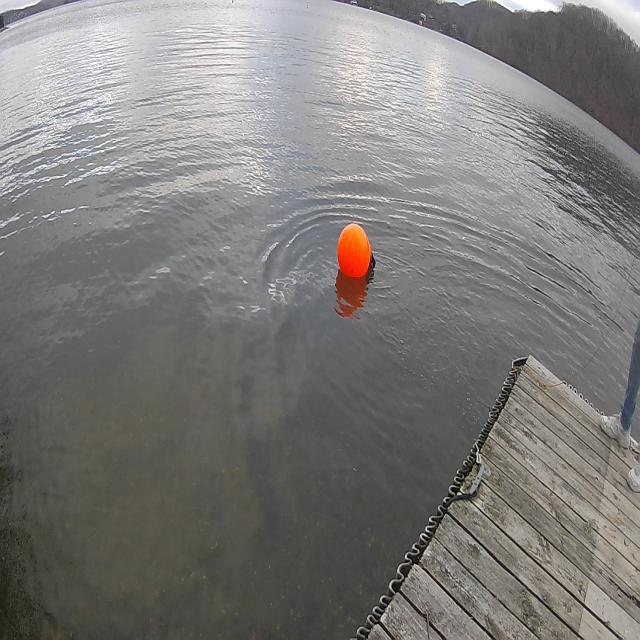Buoy: (335, 218, 380, 291)
